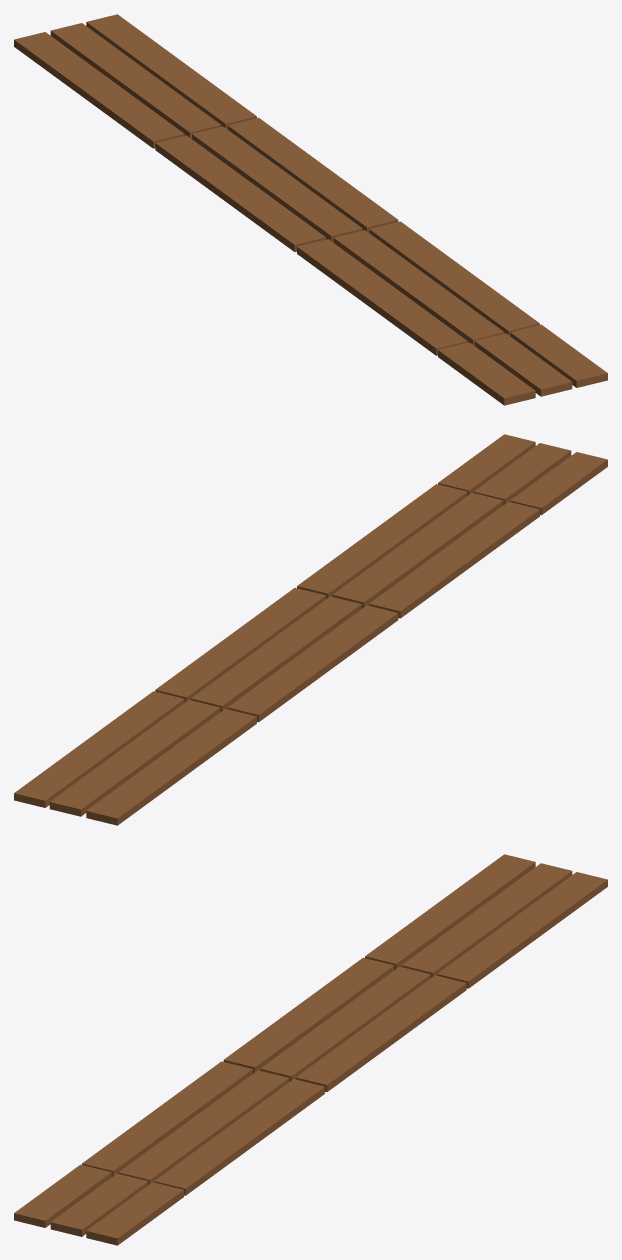
3 renders of one model, top to bottom at view 1: azimuth 30°, elevation 25°; view 2: azimuth 150°, elevation 25°; view 3: azimuth 330°, elevation 25°, orthographic.
Parts seen in each view (by area): view 1: Plane356_brown_0, Plane355_brown_0, Plane357_brown_0, Plane358_brown_0; view 2: Plane355_brown_0, Plane357_brown_0, Plane356_brown_0, Plane358_brown_0; view 3: Plane356_brown_0, Plane355_brown_0, Plane357_brown_0, Plane358_brown_0.
Boxes of the visible parts, left/top/right/bottom form: Plane356_brown_0: left=155, top=117, right=398, bottom=251; Plane355_brown_0: left=14, top=14, right=256, bottom=148; Plane357_brown_0: left=297, top=221, right=539, bottom=355; Plane358_brown_0: left=438, top=324, right=607, bottom=405; Plane355_brown_0: left=14, top=691, right=256, bottom=825; Plane357_brown_0: left=297, top=484, right=539, bottom=618; Plane356_brown_0: left=155, top=588, right=398, bottom=722; Plane358_brown_0: left=438, top=434, right=607, bottom=515; Plane356_brown_0: left=223, top=957, right=466, bottom=1091; Plane355_brown_0: left=365, top=854, right=607, bottom=988; Plane357_brown_0: left=82, top=1061, right=324, bottom=1195; Plane358_brown_0: left=14, top=1164, right=183, bottom=1245.
Size of the model in its own units: 120 by 8 by 984.
